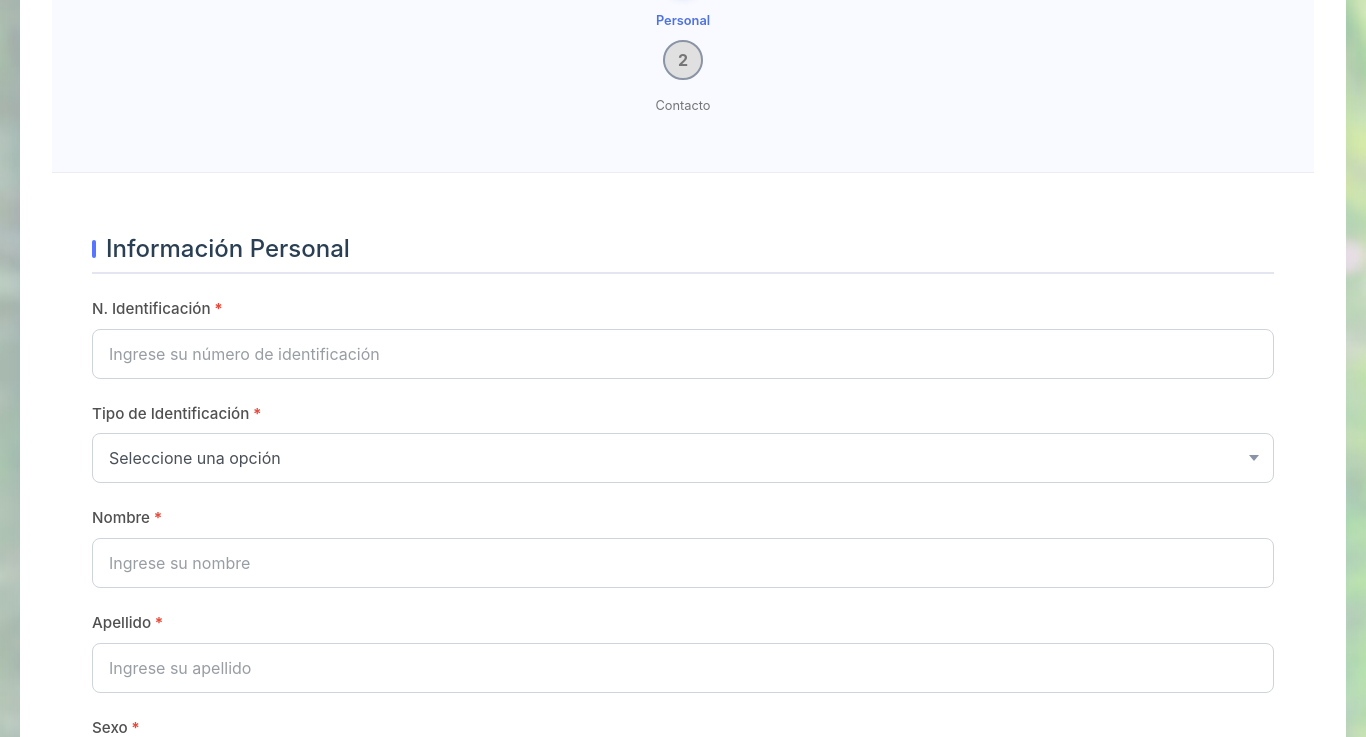
Test: RegisterCliForm › avanza al paso 2 si los datos del paso 1 son válidos
(page scrolled)
# Ingresar datos válidos
Step 1. Type "123" into the field labelled "N. Identificación" → [683, 354], box top-left (92, 328), bottom-right (1274, 378)
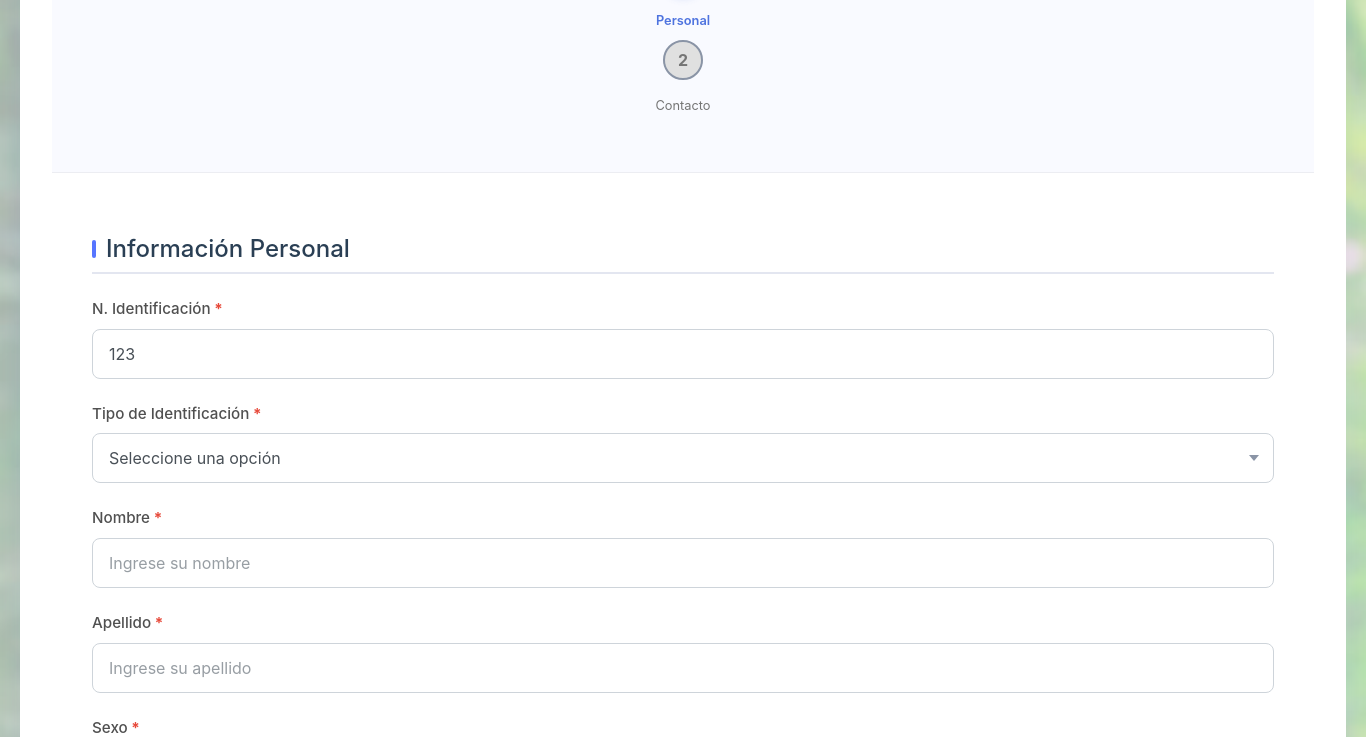
Step 2. Type "Juan" into the field labelled "Nombre" → [683, 563], box top-left (92, 538), bottom-right (1274, 588)
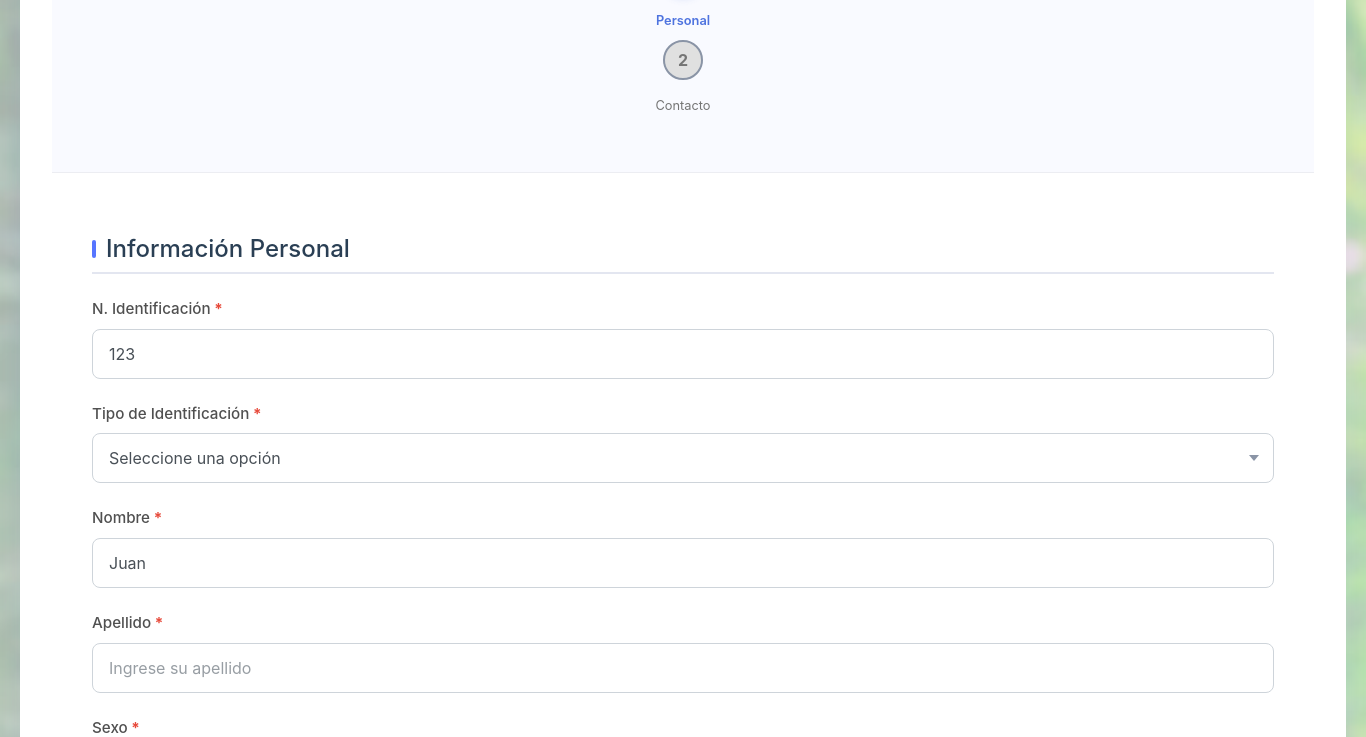
Step 3. Type "Pérez" into the field labelled "Apellido" → [683, 668], box top-left (92, 643), bottom-right (1274, 693)
(page scrolled)
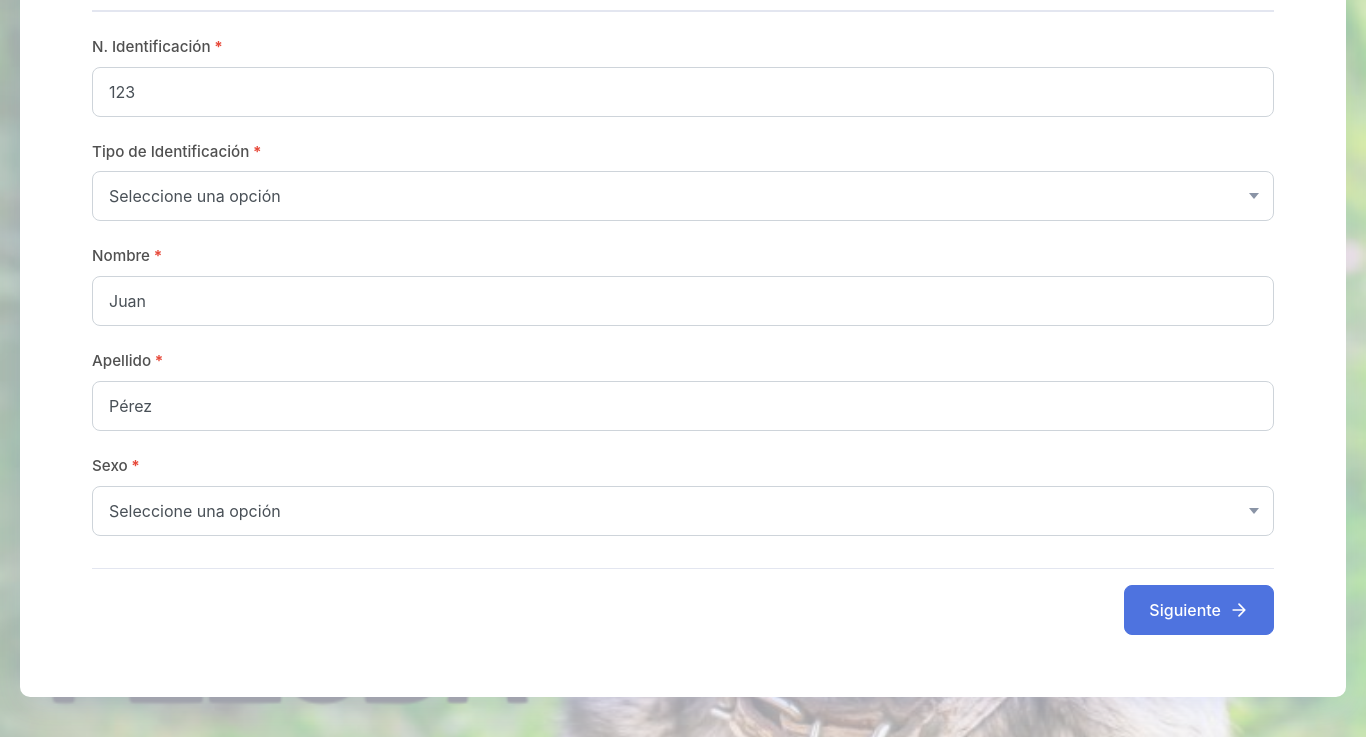
Step 4. Click the button "Siguiente" → [1199, 610], box top-left (1124, 585), bottom-right (1274, 635)
(page scrolled)
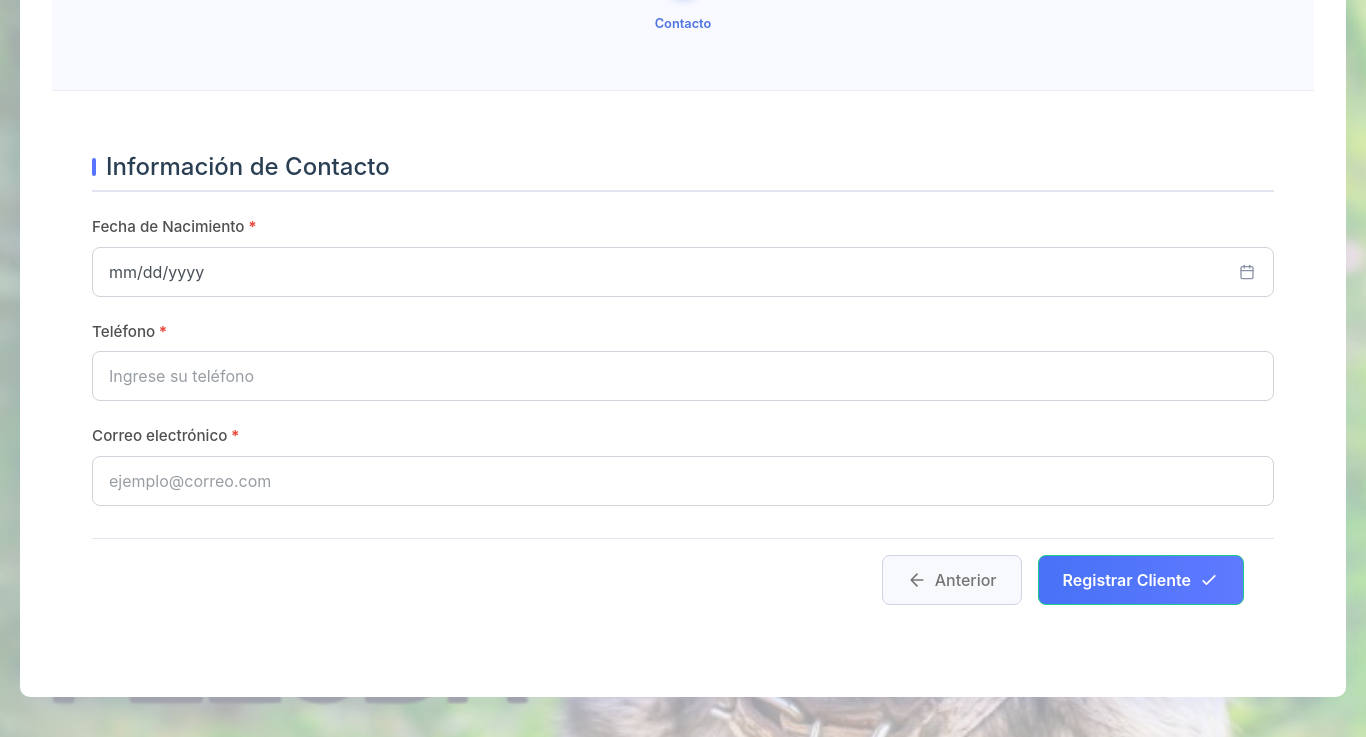
Expected: the field labelled "Correo electrónico" is shown, top-left (92, 456), bottom-right (1274, 506)
Now the field labelled "Teléfono" is shown, box top-left (92, 351), bottom-right (1274, 401)
